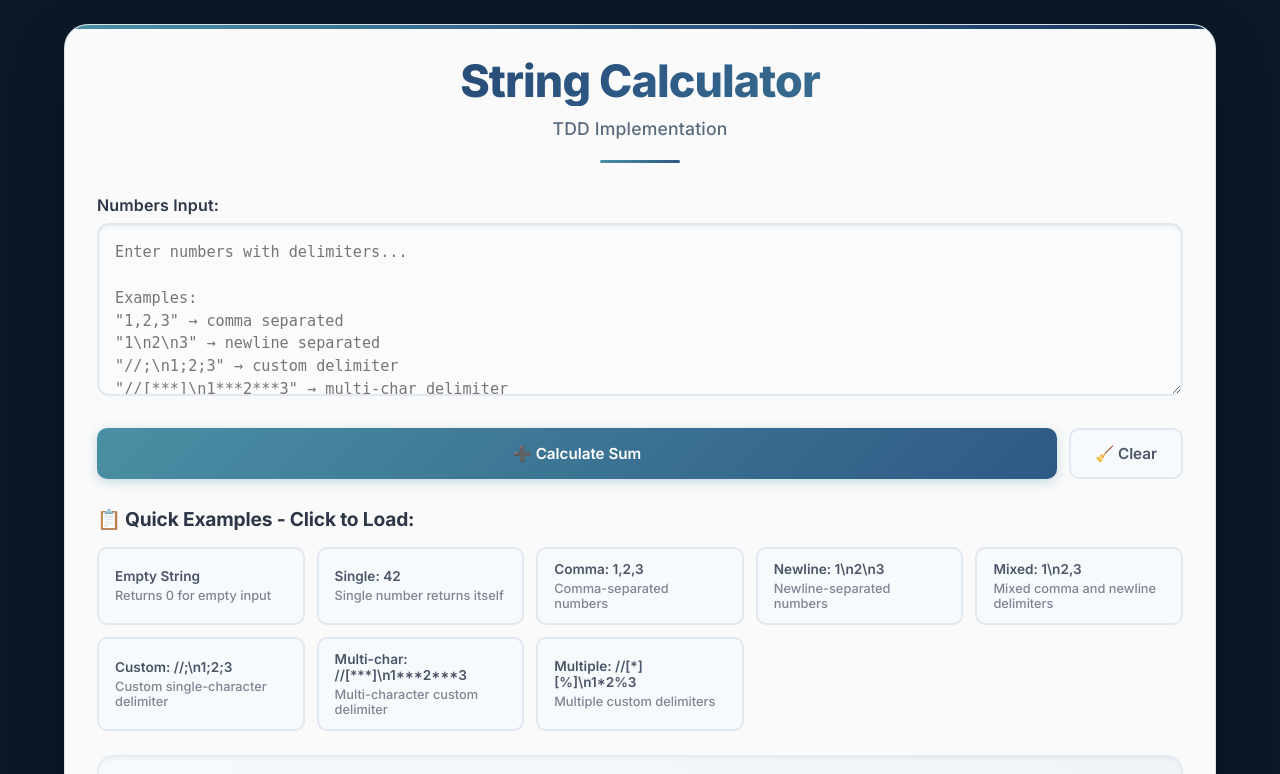
Test: StringCalculator Frontend › handles successful calculation
Replace the text in the text box with "1,2,3" at (640, 310), box [97,223,1183,396]
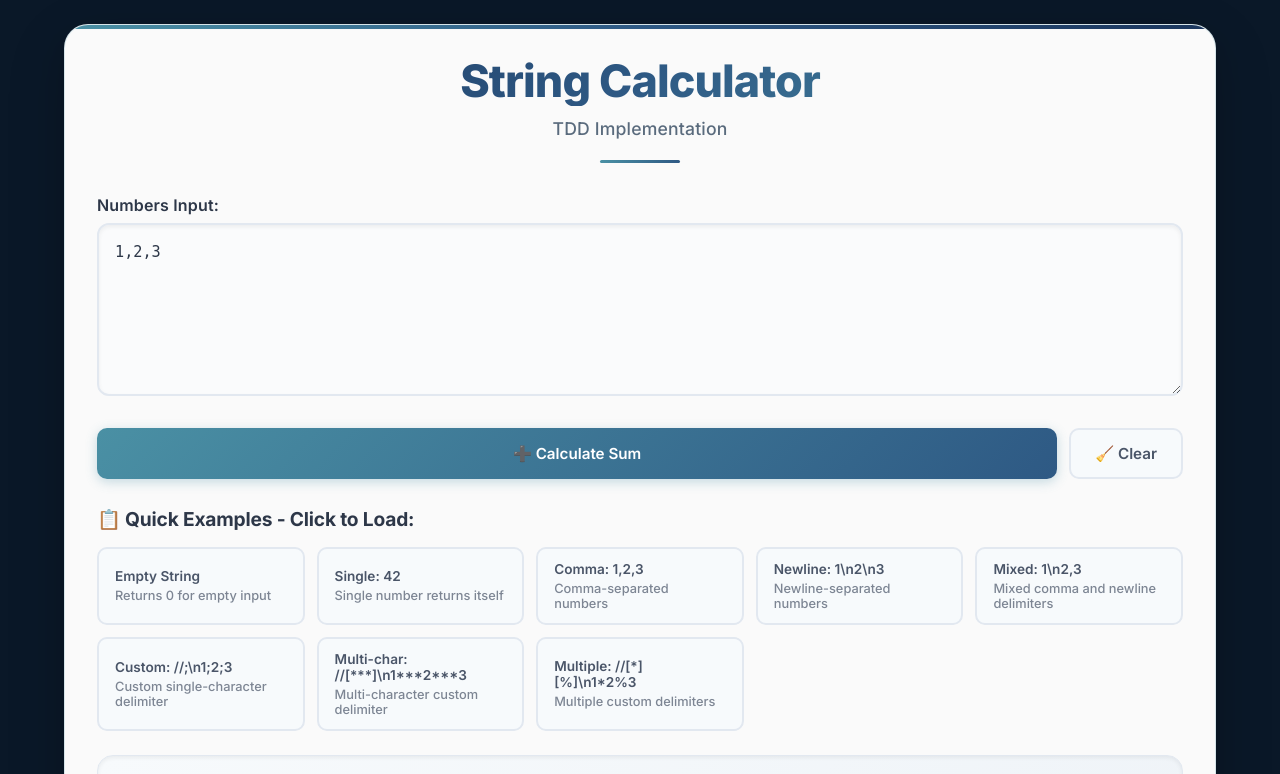
Click the button "➕ Calculate Sum" at (577, 454), box [97,428,1057,479]
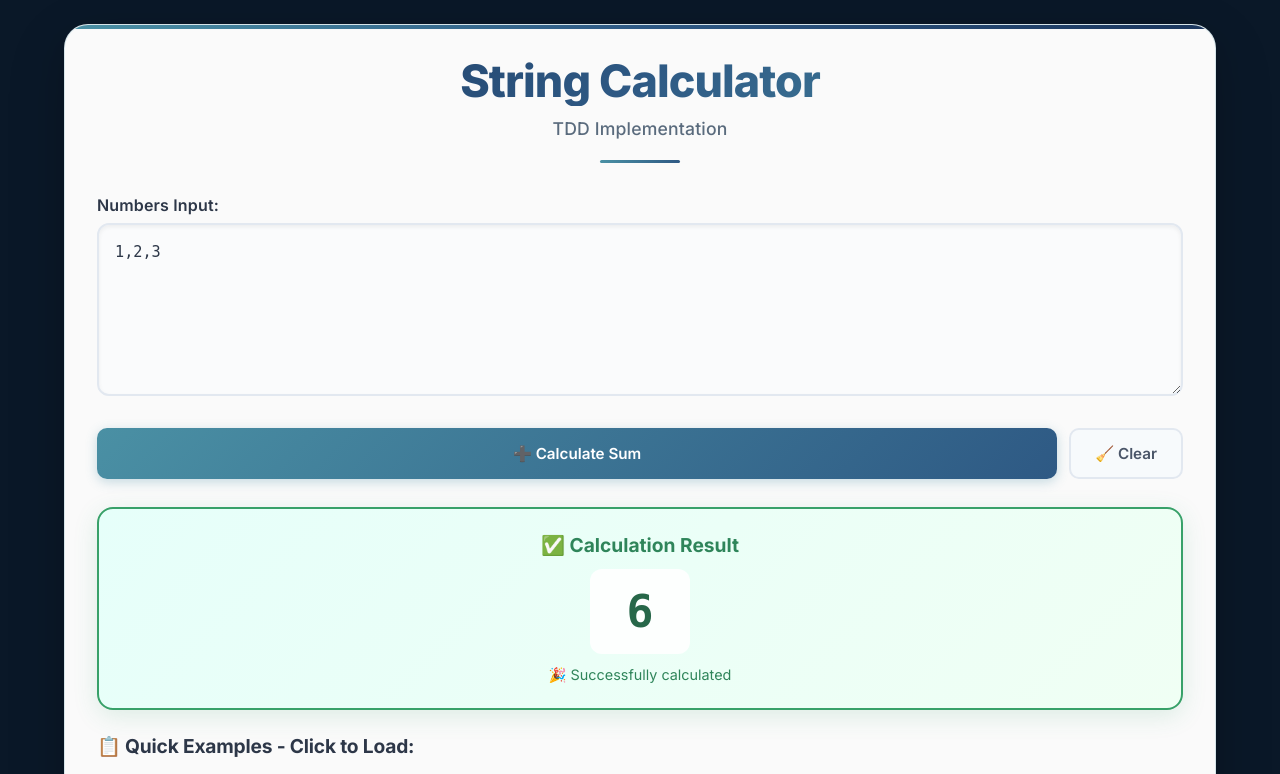
Now the text with test id "result" reads "6", box [626,585,654,638]
